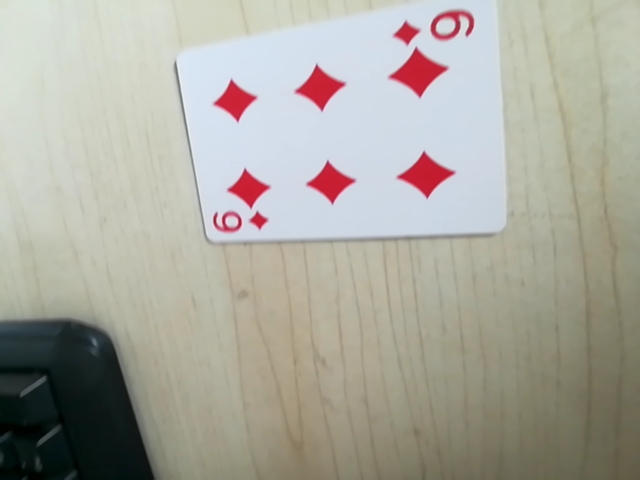fk 6: (390, 3, 481, 53), (211, 204, 273, 240)
